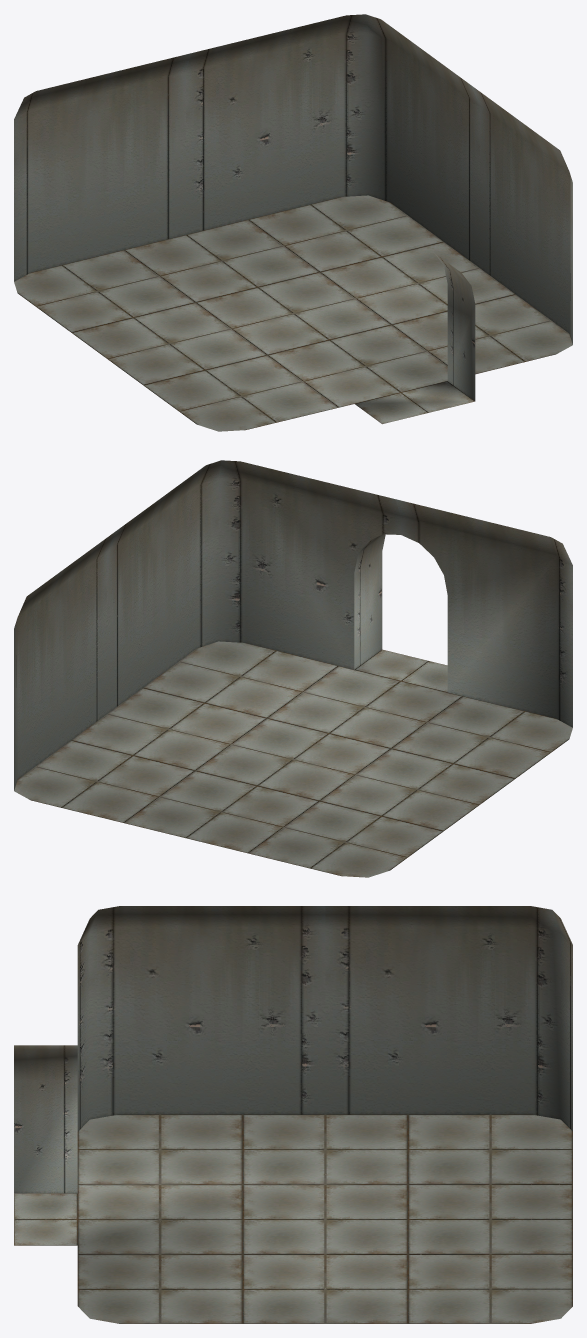
Rendered from MIS4_BOOSTER_STATION_INTERIOR.glb.
3 views of the same model, one above another, from view 1: azimuth 30°, elevation 25°; view 2: azimuth 150°, elevation 25°; view 3: azimuth 270°, elevation 25° (orthographic). The views are drawn at different scales.
Visible parts, largest first — view 1: MIS4_BOOSTER_STATION_INTERIOR; view 2: MIS4_BOOSTER_STATION_INTERIOR; view 3: MIS4_BOOSTER_STATION_INTERIOR.
Part boxes in pixels (bbox=[...]): MIS4_BOOSTER_STATION_INTERIOR: bbox=[14, 14, 572, 431]; MIS4_BOOSTER_STATION_INTERIOR: bbox=[14, 460, 572, 877]; MIS4_BOOSTER_STATION_INTERIOR: bbox=[14, 906, 572, 1323].
Bounding box in the file's own units: 6 × 3 × 6.77.
Materials: 4 (4 with a texture image).
